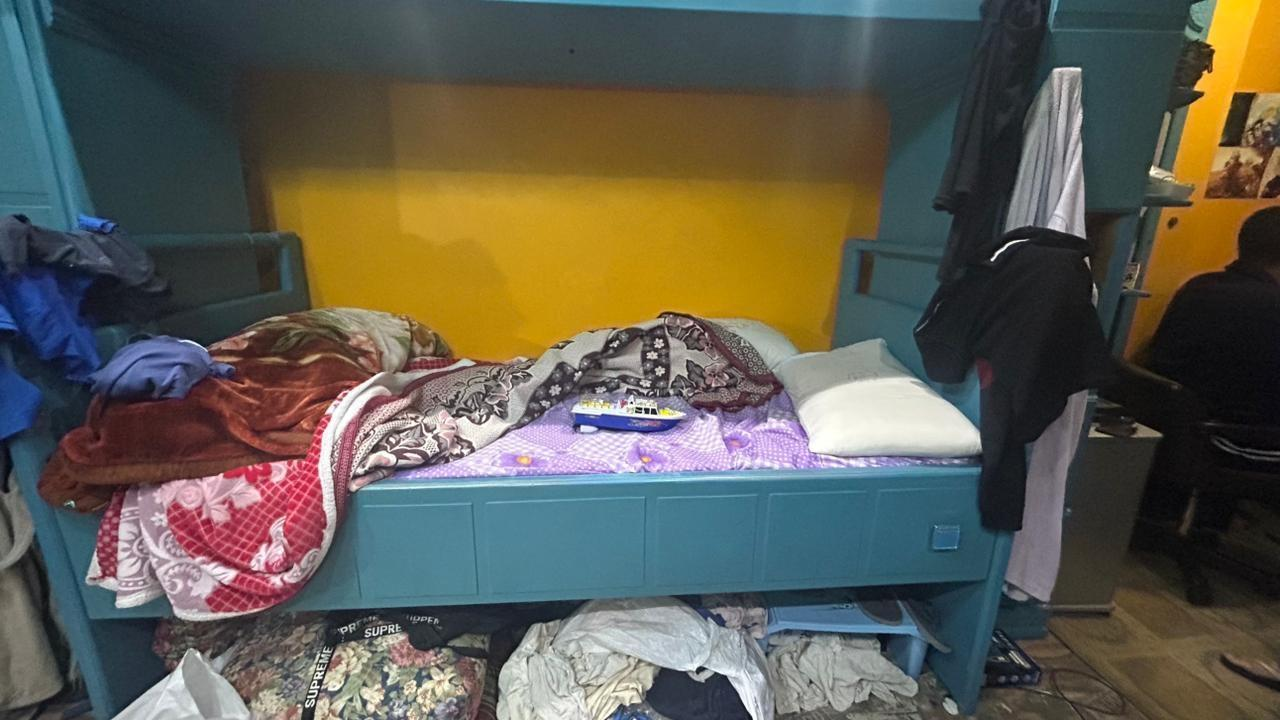Boat: (570, 391, 689, 446)
